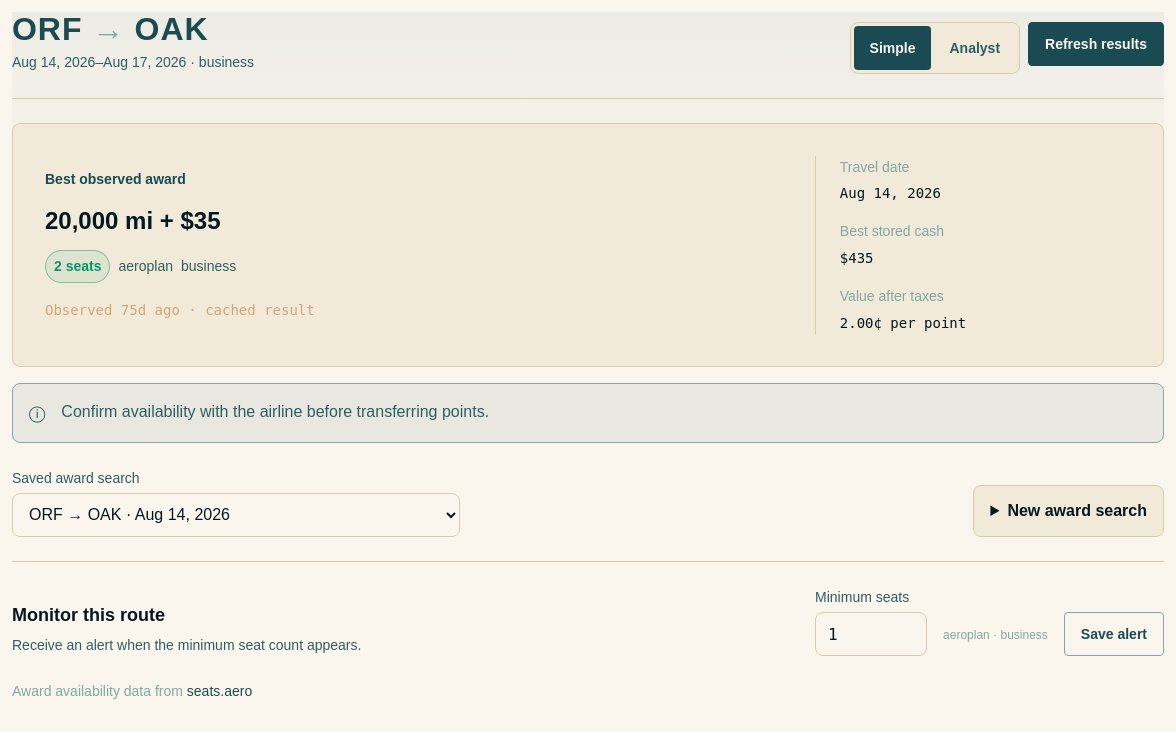
Test: AwardWorkspace › creates an availability alert from the current search
Check: the heading named "ORF to OAK" is shown, box [12,11,209,47]
Replace the text in the number field labelled "Minimum seats" with "2" at (871, 634), box [815,612,927,656]
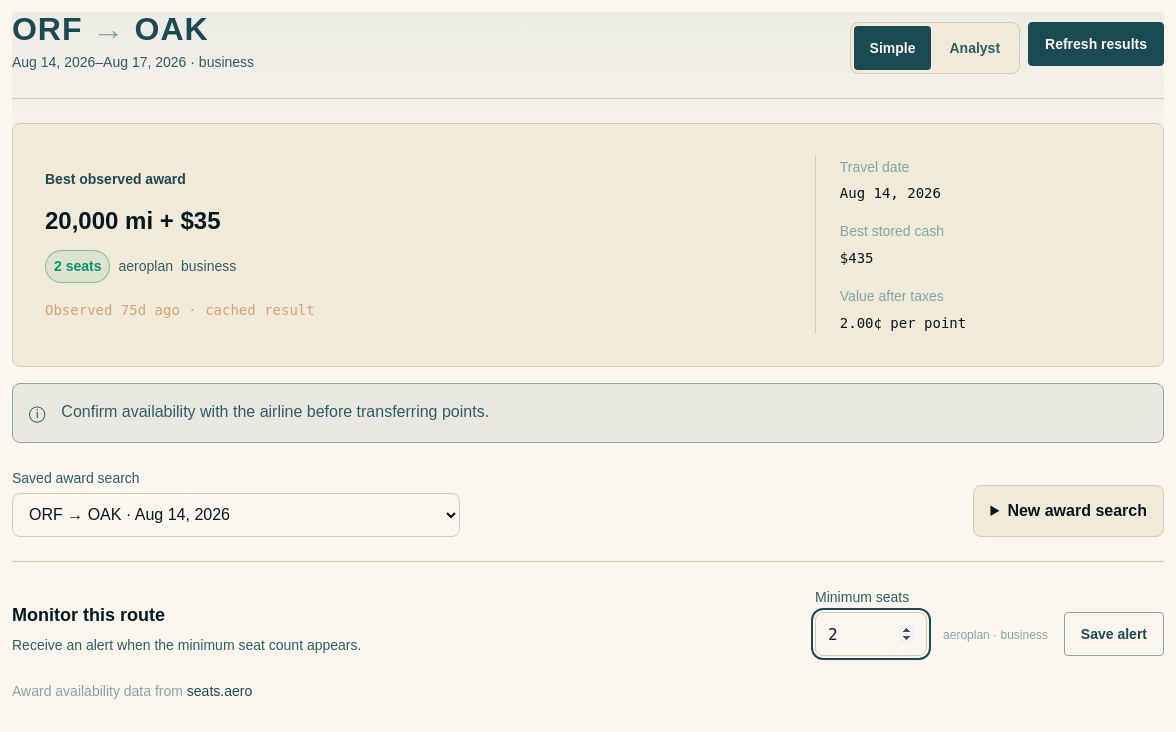
Click the button "Save alert" at (1114, 634), box [1064,612,1164,656]
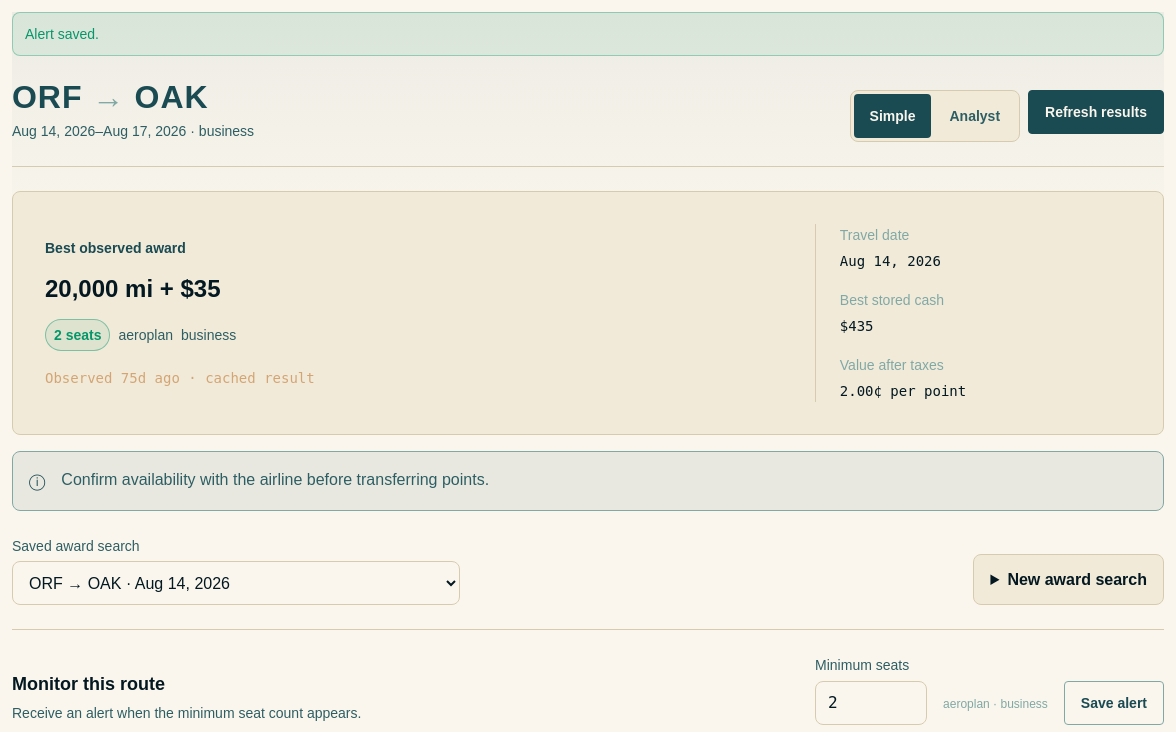
Check: the text "Alert saved." is shown, box [12,12,1164,56]
